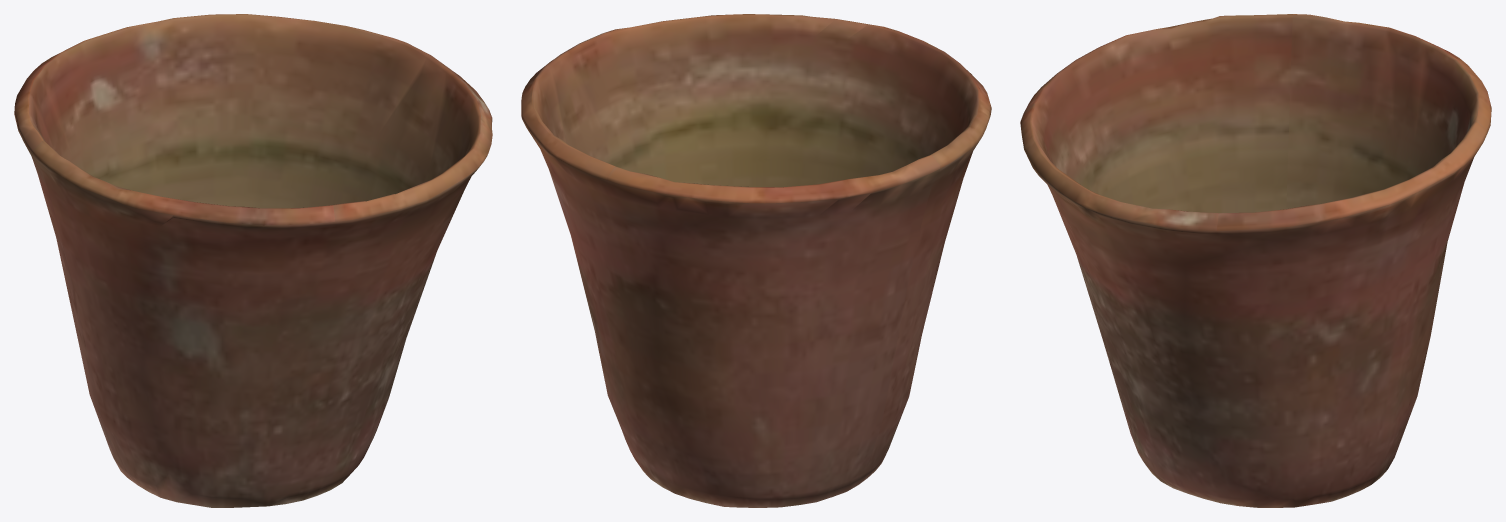
The model's file is ph-planter-pot-clay.lod1.glb.
3 views of the same model, side by side, from view 1: azimuth 30°, elevation 25°; view 2: azimuth 150°, elevation 25°; view 3: azimuth 270°, elevation 25° (orthographic).
Parts seen in each view (by area): view 1: planter_pot_clay; view 2: planter_pot_clay; view 3: planter_pot_clay.
Part boxes in pixels (x1,y1,x2,y2): planter_pot_clay: [14, 14, 492, 507]; planter_pot_clay: [521, 14, 991, 507]; planter_pot_clay: [1020, 14, 1491, 507].
Size of the model in its own units: 0.2638 by 0.22 by 0.2612.
1 material, 1 textured.
